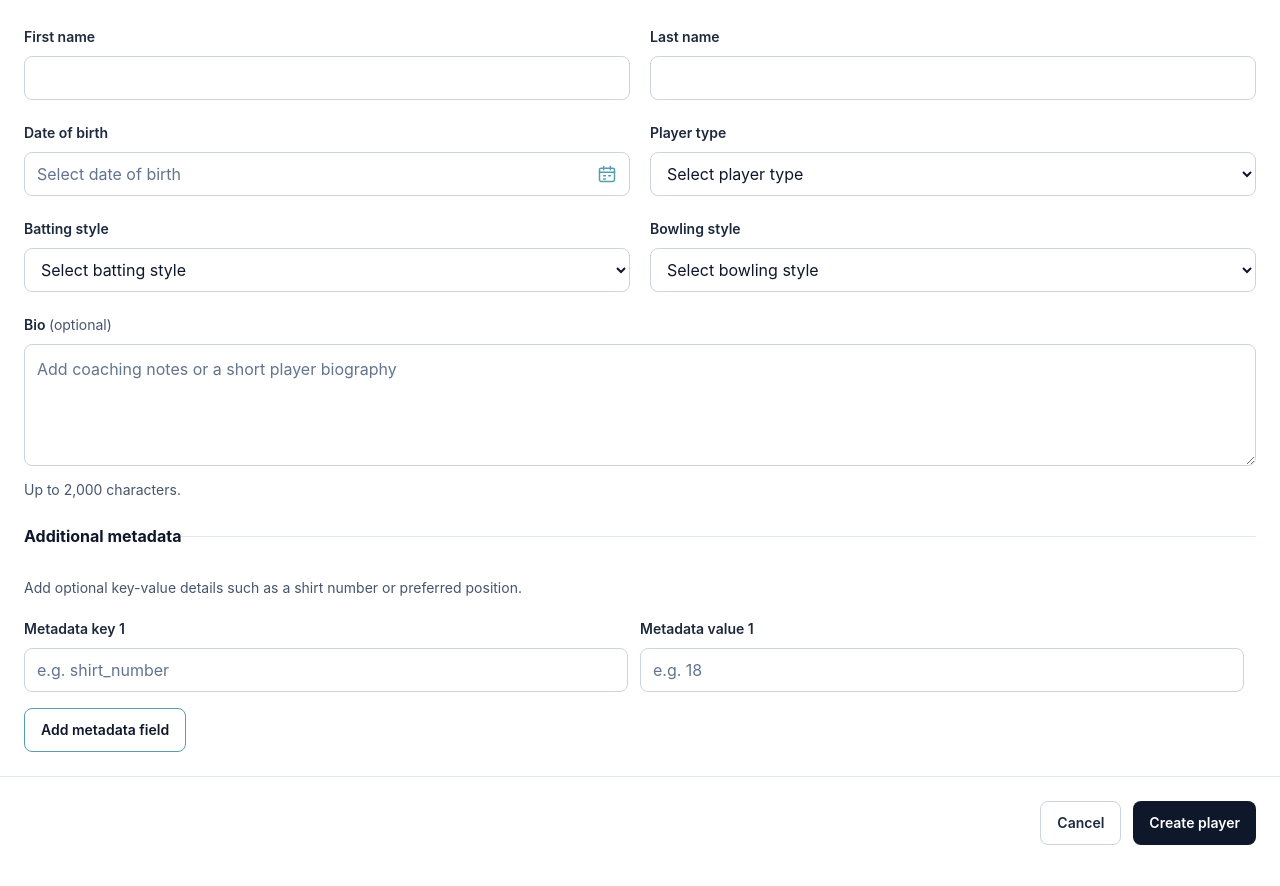
Test: PlayerForm › shows field-level errors and does not submit missing required fields
Click the button "Create player". click: (1195, 823)
box: [1133,801,1256,845]
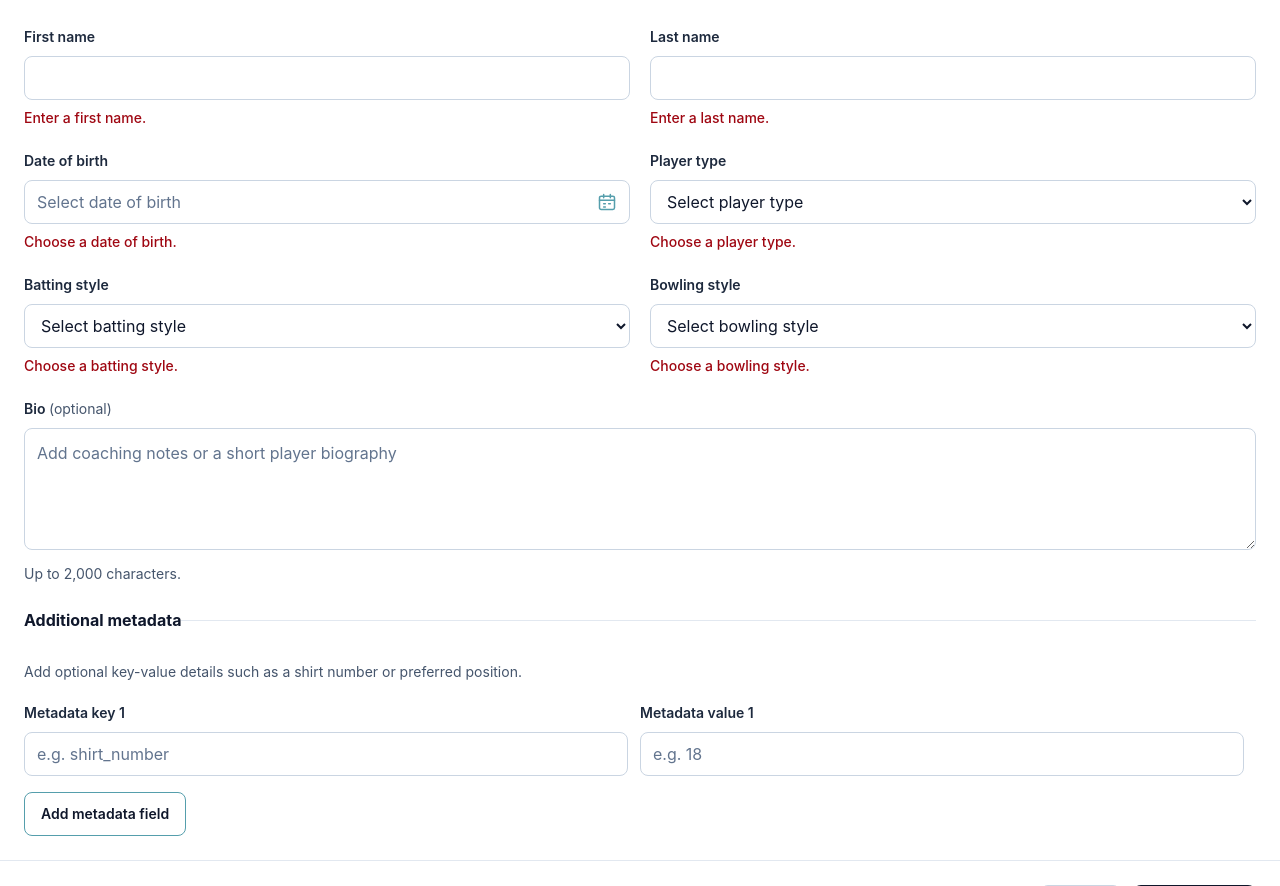
Result: the text "Enter a first name." is shown at [24,109,146,126]
Result: the text "Enter a last name." is shown at [650,109,769,126]
Result: the text "Choose a date of birth." is shown at [24,233,177,250]
